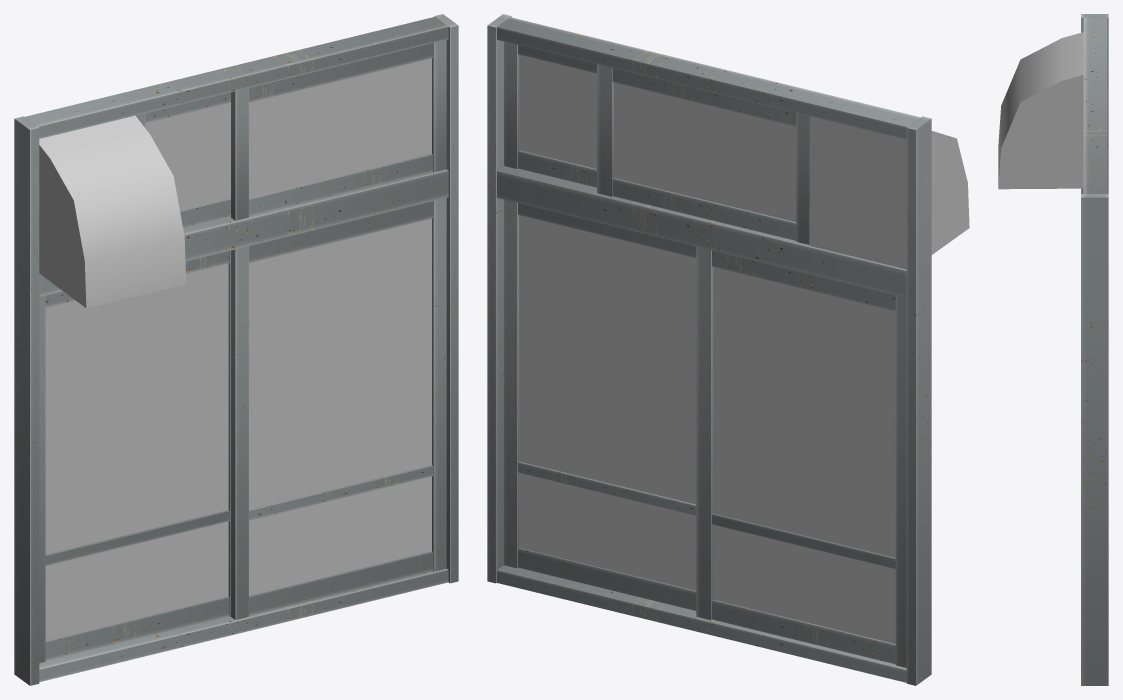
The model's file is bil_window_b2_3.fbx.
The picture shows the model from 3 angles, left to right: view 1: azimuth 30°, elevation 25°; view 2: azimuth 150°, elevation 25°; view 3: azimuth 270°, elevation 25°; orthographic projection. The views are drawn at different scales.
Parts seen in each view (by area): view 1: bil_window_b2_3; view 2: bil_window_b2_3; view 3: bil_window_b2_3.
Boxes of the visible parts, x1,y1,x2,y2 form: bil_window_b2_3: [14, 14, 458, 685]; bil_window_b2_3: [487, 14, 969, 685]; bil_window_b2_3: [998, 14, 1108, 685].
Bounding box in the file's own units: 183 × 227 × 46.55.
